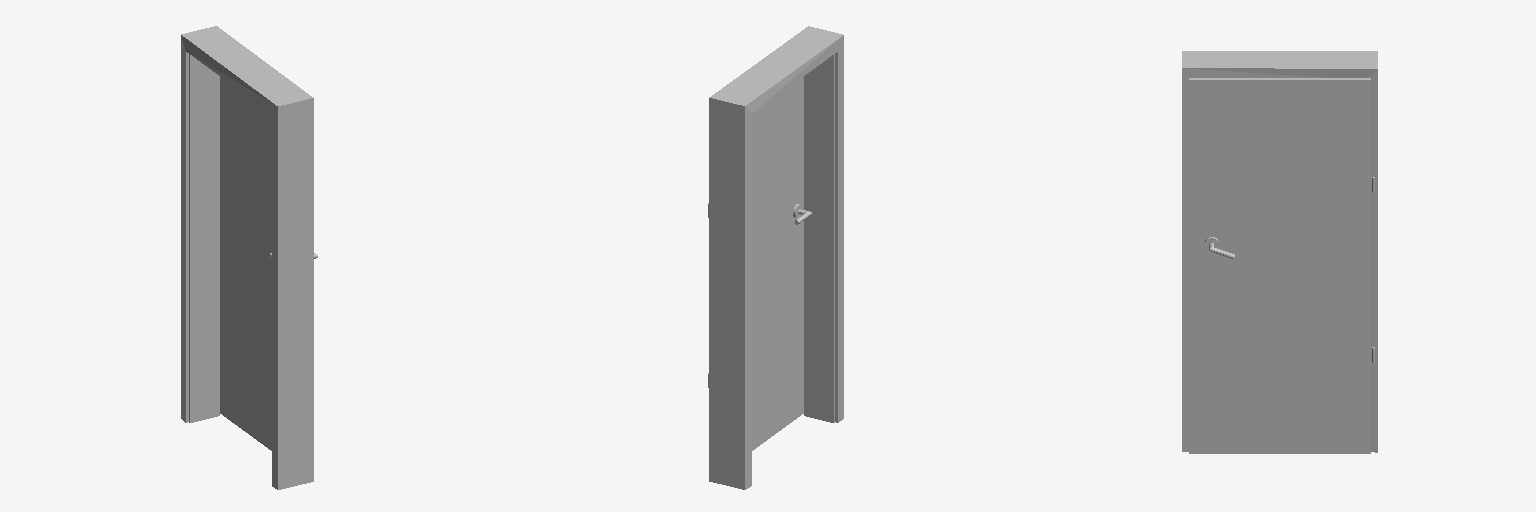
File: door44.obj
The picture shows the model from 3 angles: view 1: azimuth 30°, elevation 25°; view 2: azimuth 150°, elevation 25°; view 3: azimuth 270°, elevation 25°; orthographic projection.
Parts seen in each view (by area): view 1: Cylinder.005, Cylinder.001; view 2: Cylinder.005, Cylinder.001; view 3: Cylinder.001, Cylinder.005.
Part boxes in pixels (x1,y1,x2,y2): Cylinder.005: (181, 26, 313, 489); Cylinder.001: (220, 77, 271, 450); Cylinder.005: (708, 26, 843, 489); Cylinder.001: (708, 77, 803, 450); Cylinder.001: (1189, 78, 1374, 453); Cylinder.005: (1182, 51, 1377, 452).
Size of the model in its own units: 0.3039 by 2.05 by 0.95.